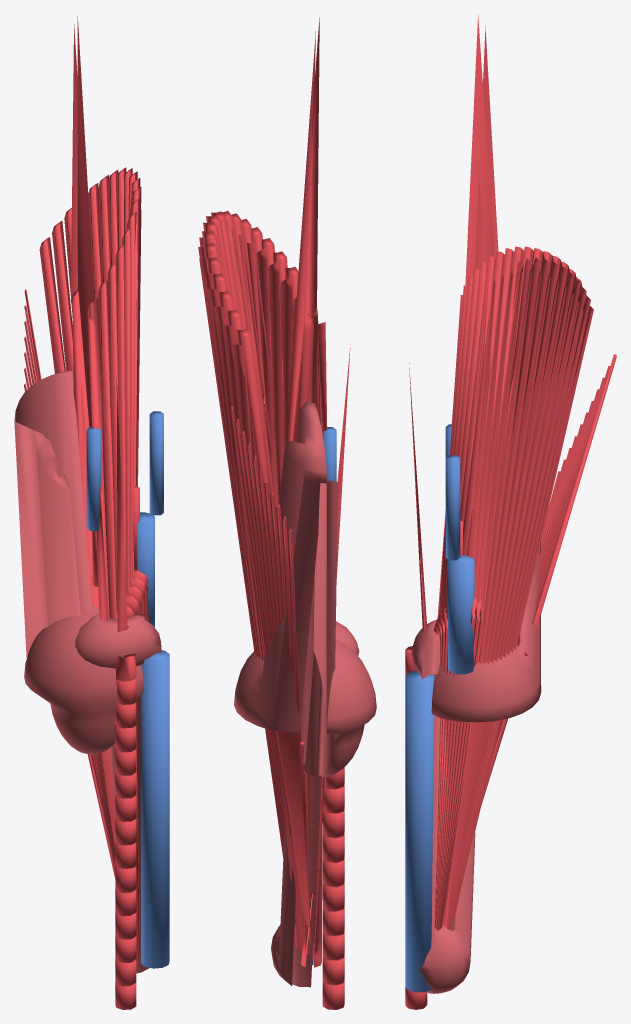
Rendered from Cardiovascular_System.fbx.
3 renders of one model, left to right at view 1: azimuth 30°, elevation 25°; view 2: azimuth 150°, elevation 25°; view 3: azimuth 270°, elevation 25°, orthographic. The views are drawn at different scales.
Parts seen in each view (by area): view 1: Aortic_Arch_Systemic, Heart_Anatomical, Vena_Cava_Systemic, Coronary_Vessels; view 2: Aortic_Arch_Systemic, Heart_Anatomical, Coronary_Vessels, Vena_Cava_Systemic; view 3: Aortic_Arch_Systemic, Vena_Cava_Systemic, Heart_Anatomical, Coronary_Vessels.
Boxes of the visible parts, x1,y1,x2,y2 form: Aortic_Arch_Systemic: (39, 16, 149, 1009); Heart_Anatomical: (14, 370, 161, 973); Vena_Cava_Systemic: (86, 411, 169, 968); Coronary_Vessels: (24, 289, 115, 878); Aortic_Arch_Systemic: (198, 17, 350, 1009); Heart_Anatomical: (234, 402, 376, 987); Coronary_Vessels: (231, 406, 310, 942); Vena_Cava_Systemic: (312, 427, 336, 965); Aortic_Arch_Systemic: (405, 14, 593, 1009); Vena_Cava_Systemic: (405, 424, 474, 992); Heart_Anatomical: (411, 542, 541, 993); Coronary_Vessels: (481, 354, 616, 803).
Size of the model in its own units: 0.1223 by 0.8871 by 0.1731.
